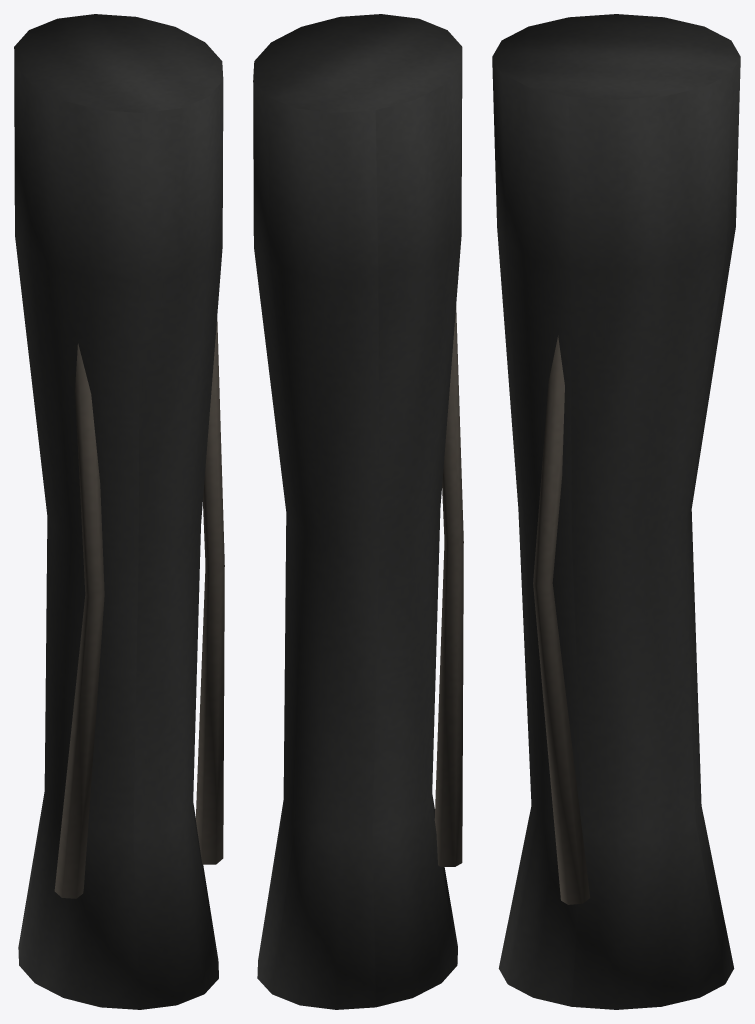
3 views of the same model, side by side, from view 1: azimuth 30°, elevation 25°; view 2: azimuth 150°, elevation 25°; view 3: azimuth 270°, elevation 25° (orthographic).
Parts seen in each view (by area): view 1: agro_fl_low_LOD0; view 2: agro_fl_low_LOD0; view 3: agro_fl_low_LOD0.
Part boxes in pixels (bbox=[...]): agro_fl_low_LOD0: bbox=[14, 14, 224, 1009]; agro_fl_low_LOD0: bbox=[253, 14, 463, 1009]; agro_fl_low_LOD0: bbox=[492, 14, 740, 1009].
Size of the model in its own units: 0.126 by 0.615 by 0.152.
2 materials, 2 textured.
